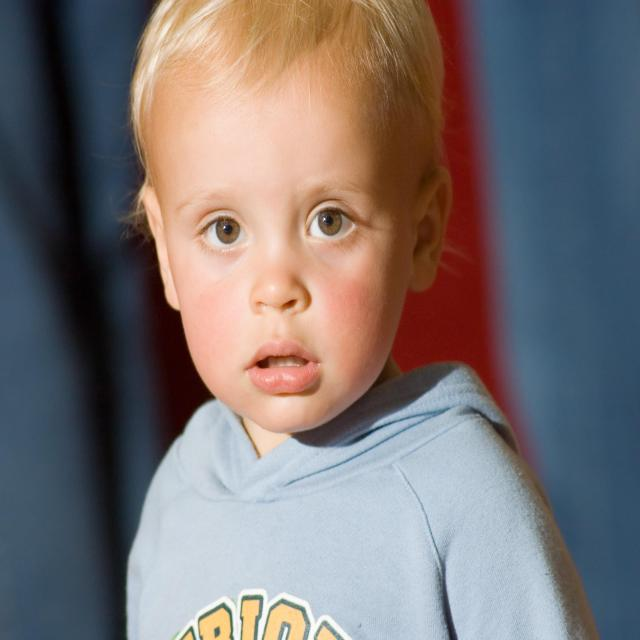no-glass: (191, 201, 357, 248)
